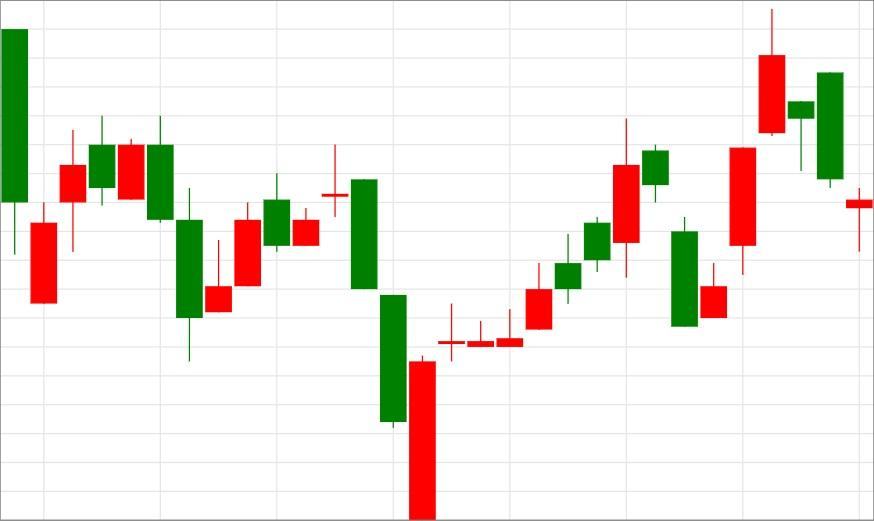bearish_engulfing_fall: (29, 115, 175, 304)
three_white_soldiers_rise: (642, 9, 786, 327)
